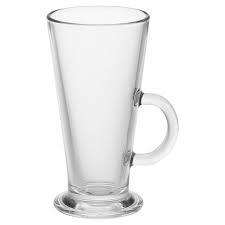glass: (21, 0, 195, 225)
